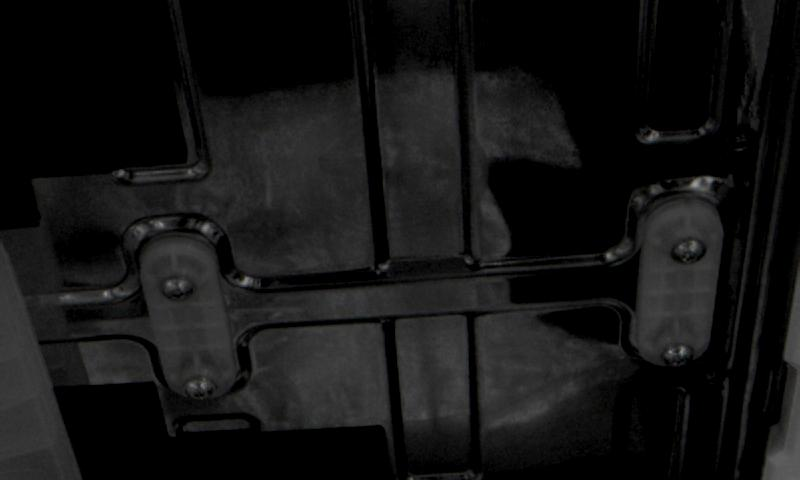vida-ok: (154, 267, 200, 312), (665, 232, 712, 275), (652, 333, 697, 372), (172, 368, 217, 407)
